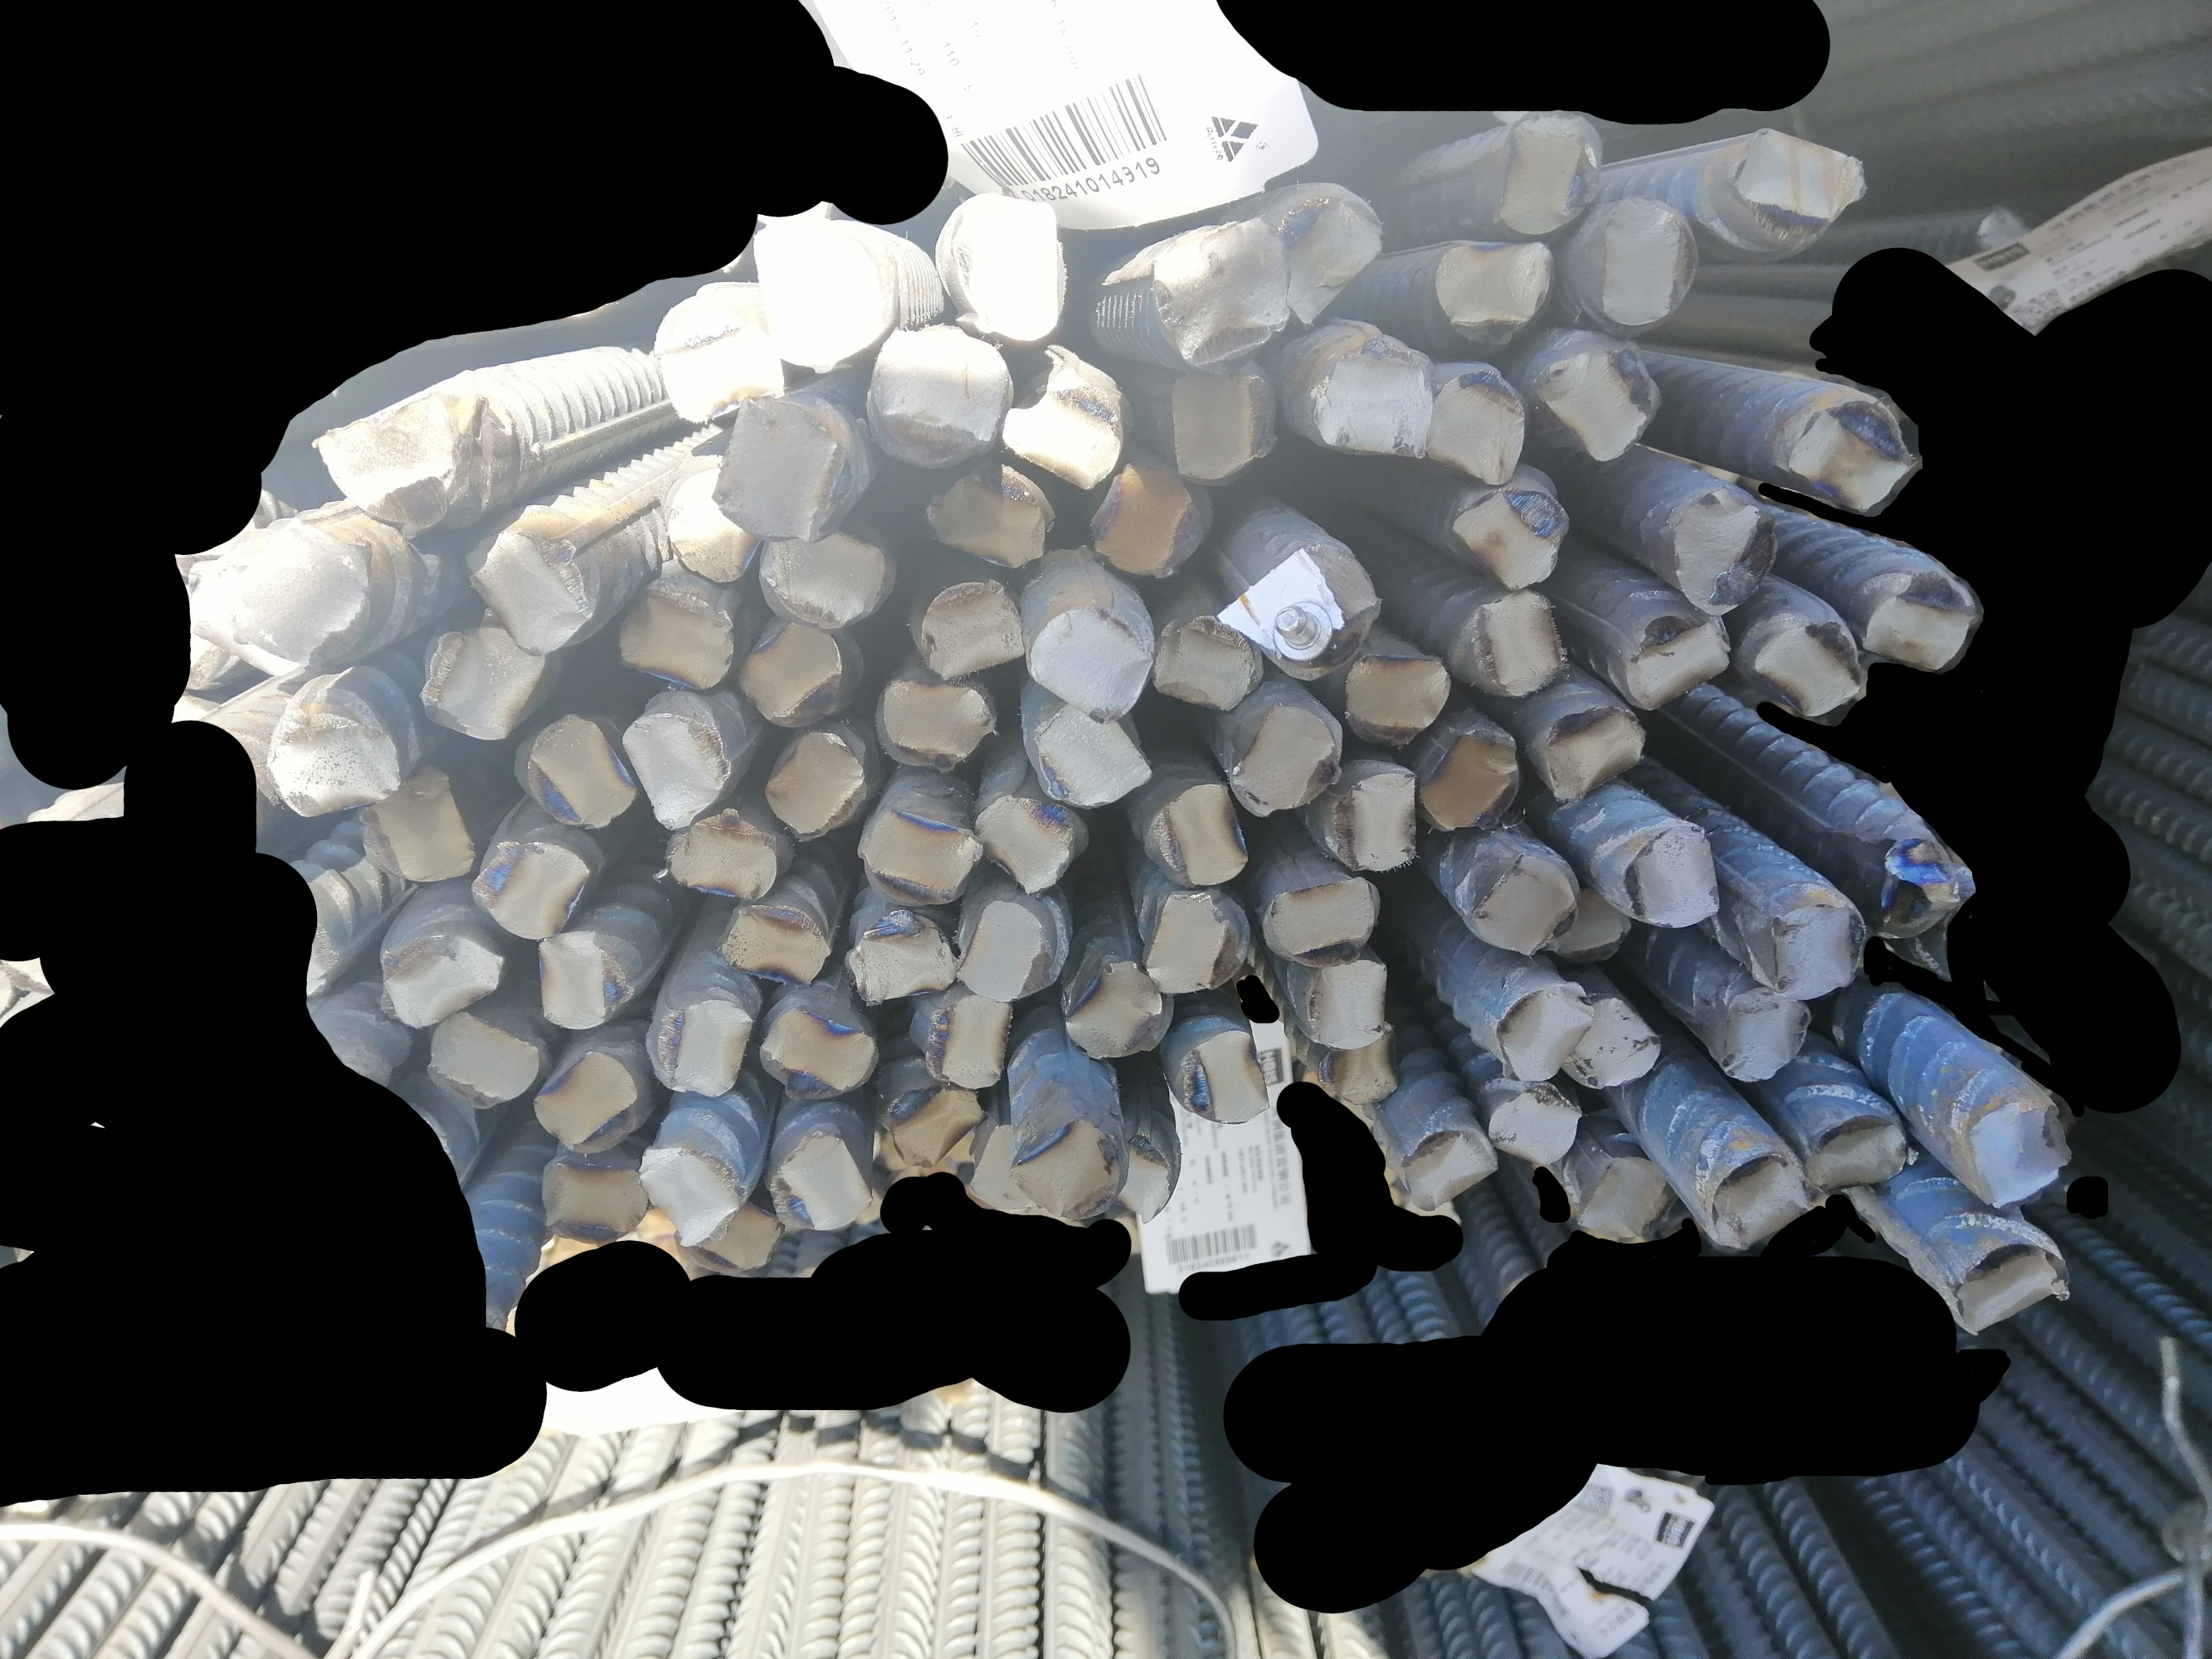rebar: (312, 371, 525, 535), (180, 532, 380, 699), (1140, 216, 1295, 368), (739, 218, 894, 366), (1715, 124, 1874, 260), (865, 322, 1008, 471), (940, 193, 1075, 349), (256, 685, 401, 824), (641, 284, 790, 420), (1295, 328, 1438, 467), (992, 345, 1130, 488), (715, 394, 849, 540), (451, 519, 598, 652), (1252, 544, 1382, 687), (1783, 394, 1924, 519), (1572, 197, 1703, 331), (410, 624, 547, 748), (1537, 335, 1665, 467), (1271, 186, 1391, 324), (507, 711, 640, 833), (1963, 1079, 2078, 1216), (1222, 701, 1347, 824), (352, 762, 474, 889), (856, 798, 985, 918), (1021, 603, 1152, 721), (1663, 484, 1781, 615), (1161, 364, 1283, 488), (1415, 361, 1534, 486), (607, 579, 736, 694), (1023, 701, 1157, 810), (1086, 460, 1206, 582), (1497, 101, 1607, 234), (1433, 235, 1558, 350), (1942, 1236, 2076, 1342), (378, 920, 506, 1032), (1412, 714, 1523, 842), (865, 1070, 985, 1187), (469, 831, 591, 946), (1449, 483, 1571, 598), (424, 1006, 549, 1117), (758, 526, 894, 629), (922, 458, 1051, 566), (1307, 756, 1422, 877), (905, 570, 1030, 680), (1754, 605, 1872, 720), (622, 704, 730, 829), (755, 999, 880, 1107), (1858, 565, 1984, 673), (873, 671, 1001, 777), (739, 617, 858, 730), (947, 894, 1069, 1004), (659, 455, 760, 587), (1335, 641, 1450, 756), (1612, 819, 1727, 934), (629, 1129, 743, 1246), (763, 716, 868, 840), (1137, 885, 1252, 997), (1750, 896, 1870, 1002), (1858, 823, 1959, 948), (760, 1122, 872, 1236), (530, 1044, 645, 1154), (1466, 849, 1576, 964), (533, 1143, 654, 1248), (1459, 589, 1571, 701), (971, 788, 1081, 899), (641, 992, 751, 1103), (1063, 948, 1170, 1063), (837, 899, 952, 1006), (1149, 610, 1269, 711), (1537, 694, 1647, 803), (1011, 1117, 1124, 1223), (1262, 870, 1381, 971), (722, 885, 835, 990), (1698, 1147, 1813, 1249), (913, 986, 1021, 1093), (1710, 985, 1820, 1089), (1621, 606, 1731, 711), (666, 805, 779, 906), (1147, 782, 1250, 892), (1572, 1154, 1689, 1249), (1494, 978, 1593, 1086), (1285, 953, 1388, 1053), (533, 924, 622, 1037), (1801, 1110, 1912, 1199), (1171, 1023, 1269, 1124), (962, 1114, 1055, 1218), (1483, 1080, 1588, 1171), (1567, 995, 1666, 1089), (1398, 1122, 1499, 1215), (680, 1206, 786, 1283), (1543, 884, 1635, 969), (1109, 1133, 1182, 1230), (1321, 1037, 1410, 1112)
